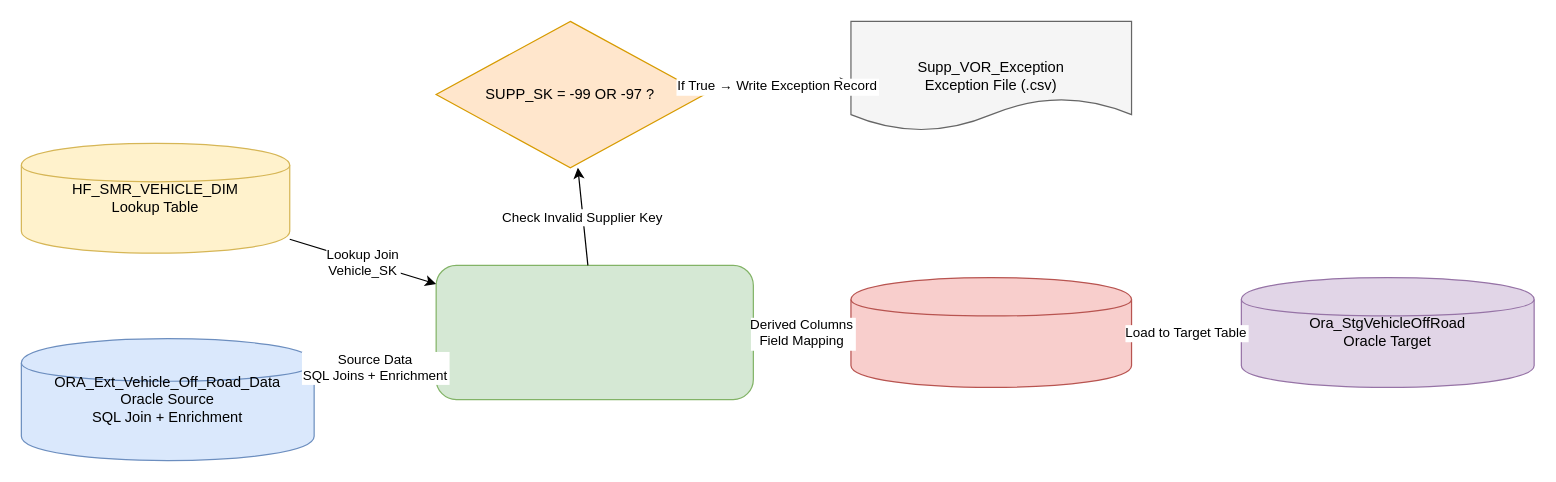
The diagram is 1556 pixels wide and 482 high, and some of its shapes have lost their labels. Each missing label, with the centre of its shape:
HF_FACT_VOR_DATA Hash Storage: point (991, 331)
Tfm_LoadRecords Transformer Stage Derived Columns Lookup Vehicle_SK: point (594, 332)
